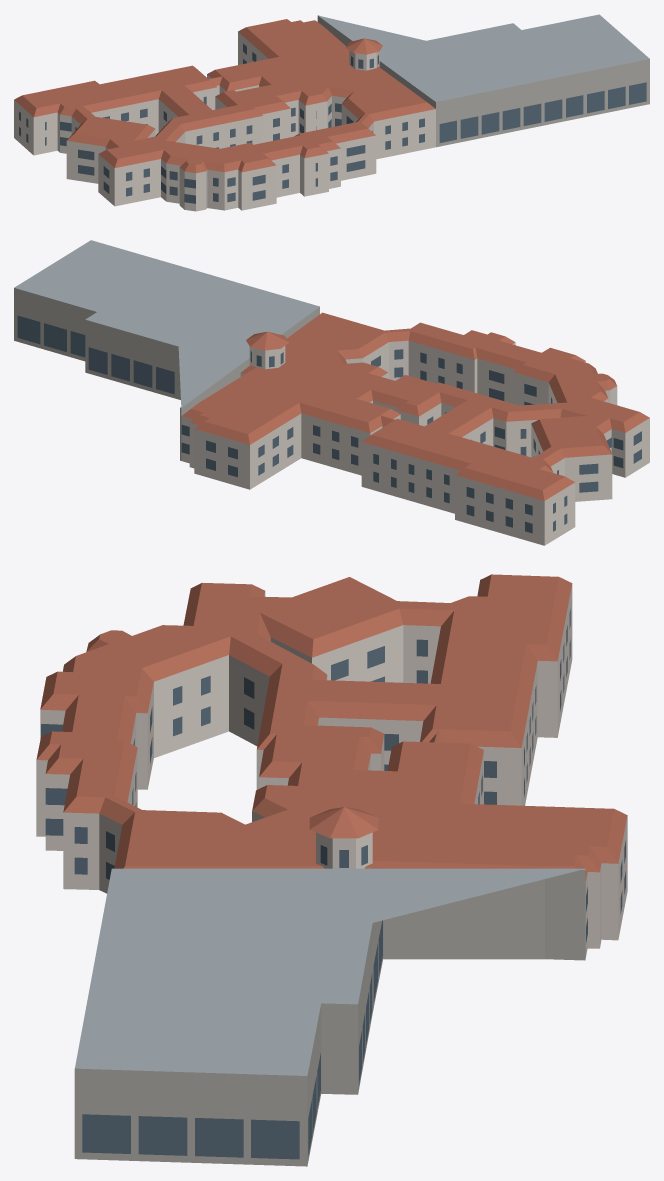
File: sat-mcnay.glb
3 views of the same model, one above another, from view 1: azimuth 30°, elevation 25°; view 2: azimuth 150°, elevation 25°; view 3: azimuth 270°, elevation 25° (orthographic). The views are drawn at different scales.
Parts seen in each view (by area): view 1: McNay Art Museum; view 2: McNay Art Museum; view 3: McNay Art Museum.
Boxes of the visible parts, left/top/right/bottom form: McNay Art Museum: left=14, top=14, right=649, bottom=211; McNay Art Museum: left=14, top=240, right=649, bottom=545; McNay Art Museum: left=36, top=574, right=627, bottom=1166.
Bounding box in the file's own units: 157 × 20 × 77.
